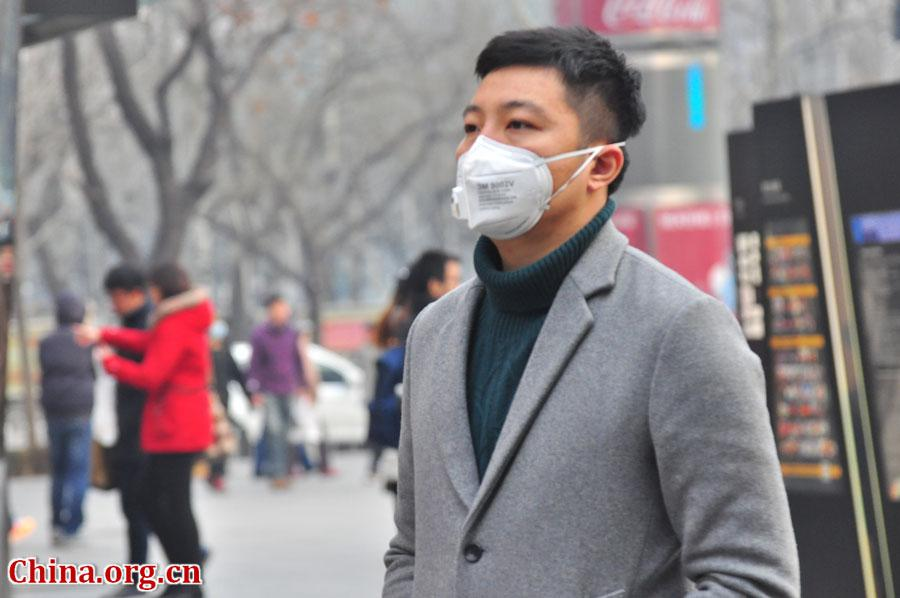NONE: (105, 282, 138, 318), (147, 279, 181, 313)
OK: (454, 98, 582, 226)
